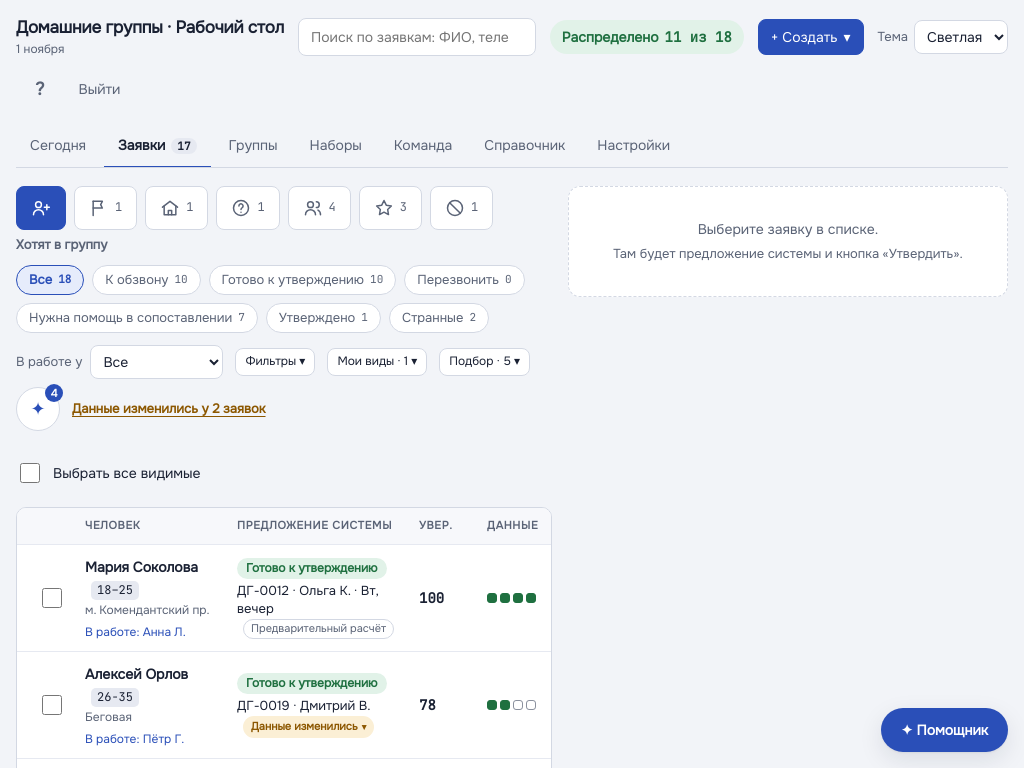
Test: «Мои виды» на «Заявках» › на «Заявках» не видны виды «Справочника»
Click the button "Мои виды · 1 ▾". click: [377, 362]
box: [327, 348, 427, 376]
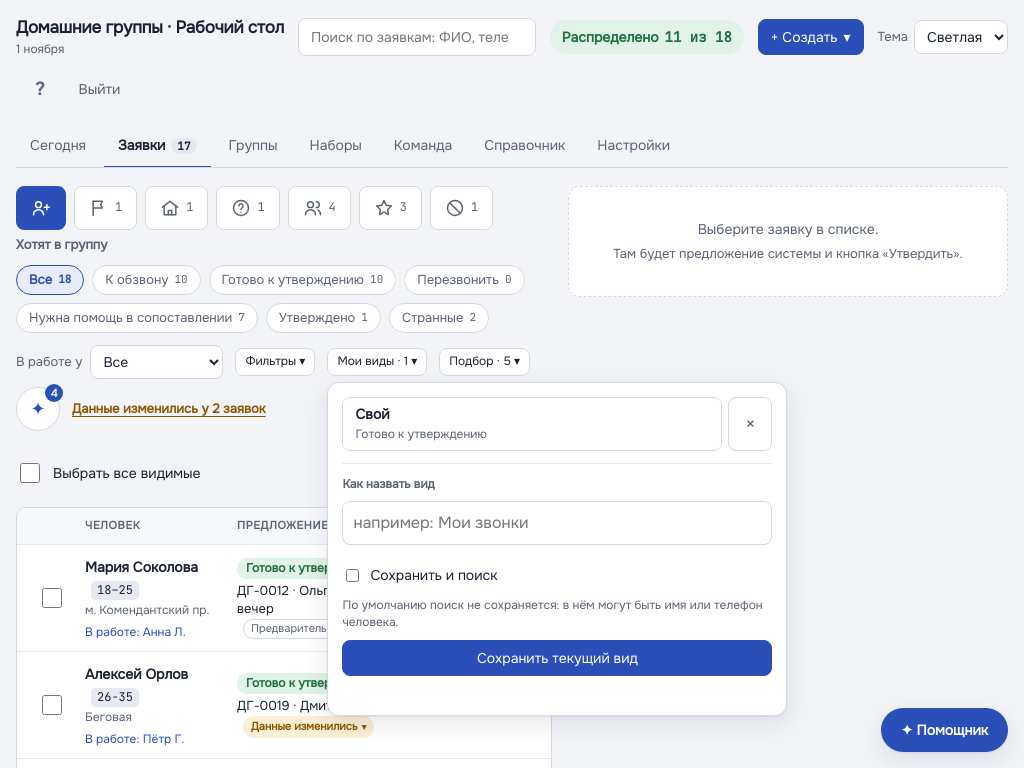
Expected: the button "Свой Готово к утверждению" is shown, [342, 397, 722, 451]
